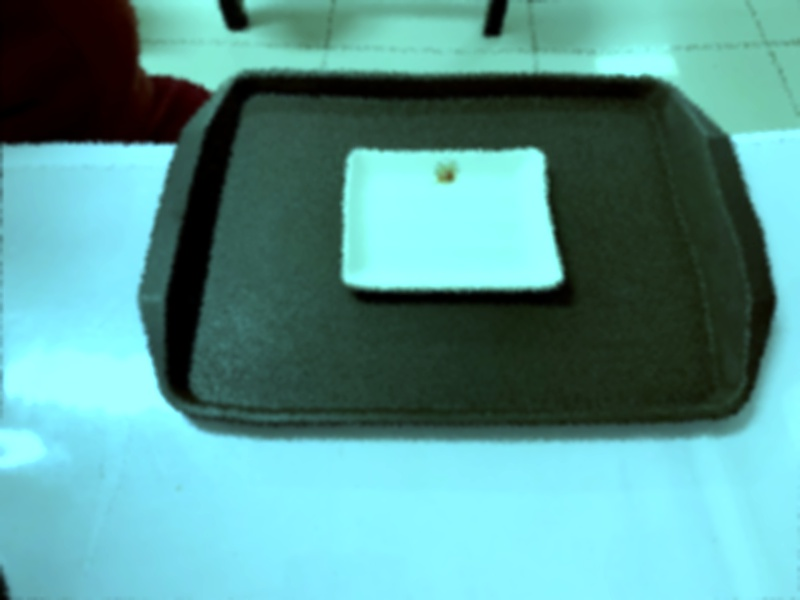dish4: (331, 139, 573, 302)
